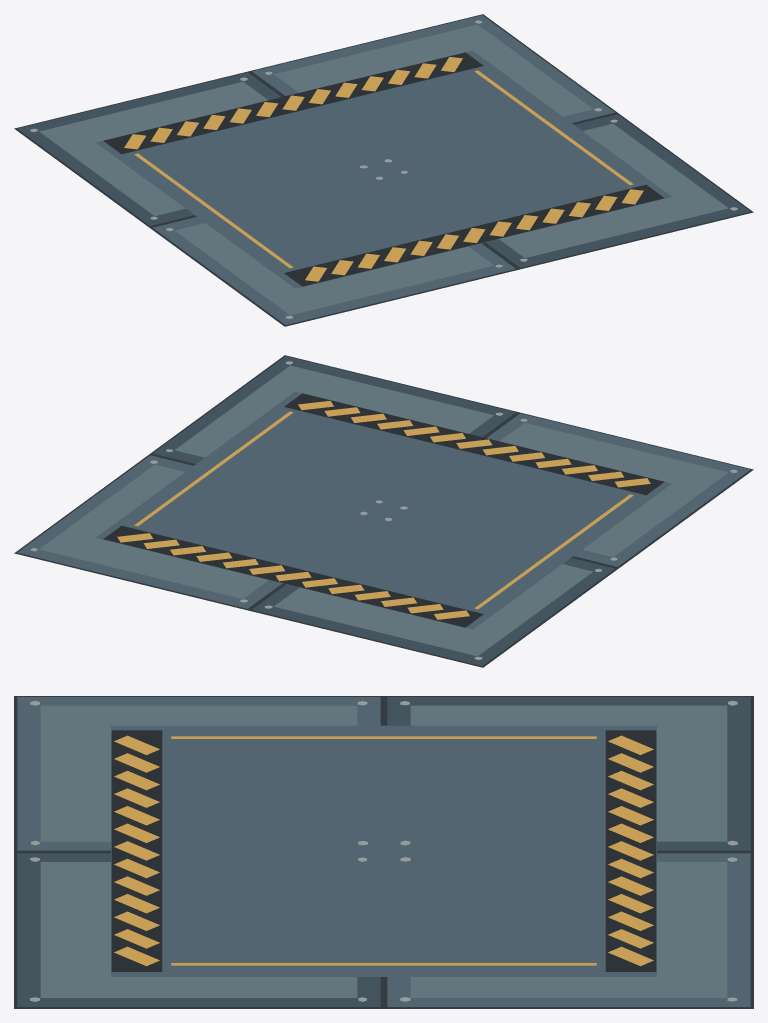
File: 15_Metal_Hazard.fbx
3 renders of one model, top to bottom at view 1: azimuth 30°, elevation 25°; view 2: azimuth 150°, elevation 25°; view 3: azimuth 270°, elevation 25°, orthographic. The views are drawn at different scales.
Visible parts, largest first — view 1: 15_Metal_Hazard; view 2: 15_Metal_Hazard; view 3: 15_Metal_Hazard.
Part boxes in pixels (<box>): 15_Metal_Hazard: <box>14,14,753,326</box>; 15_Metal_Hazard: <box>14,355,753,667</box>; 15_Metal_Hazard: <box>14,696,753,1008</box>.
Bounding box in the file's own units: 800 × 1.9 × 800.
Materials: 1 (1 with a texture image).
